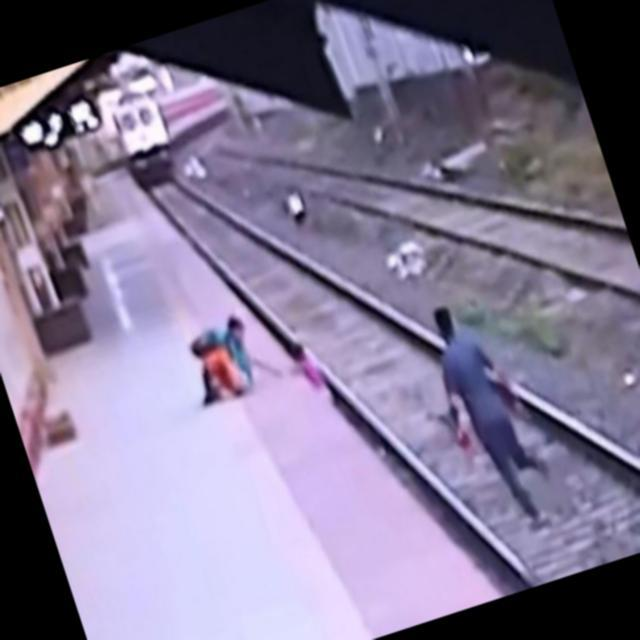person: (391, 261, 596, 571), (169, 278, 284, 421), (279, 319, 342, 424)
